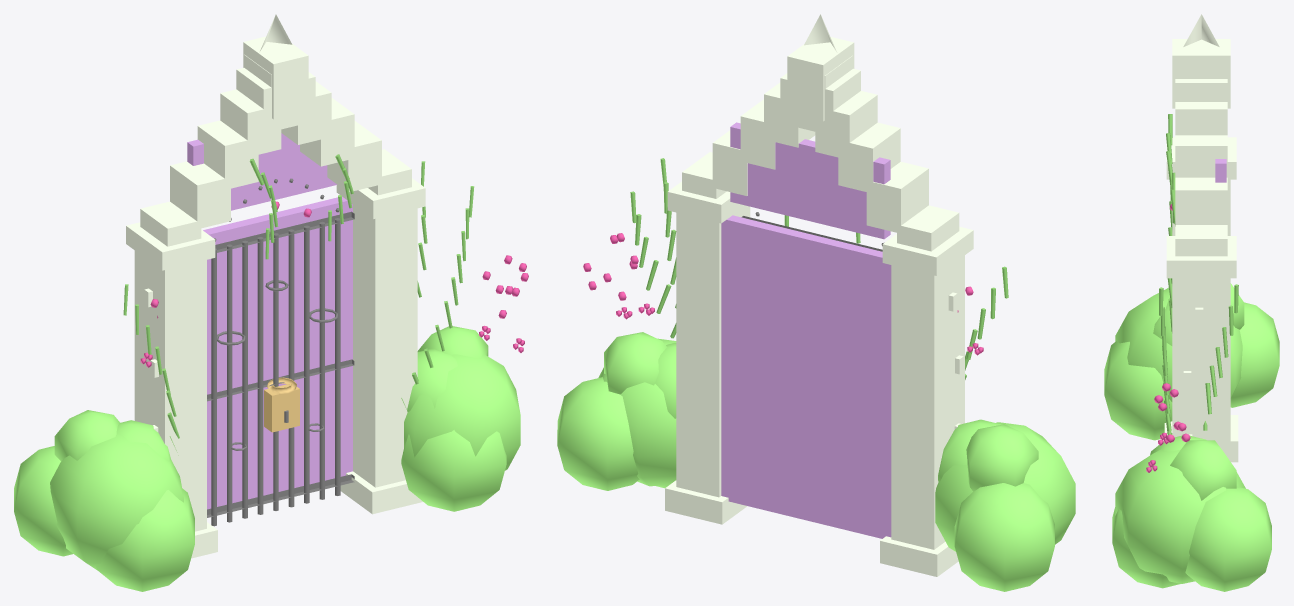
The model's file is 07_alice-maze.glb.
3 renders of one model, left to right at view 1: azimuth 30°, elevation 25°; view 2: azimuth 150°, elevation 25°; view 3: azimuth 270°, elevation 25°, orthographic. The views are drawn at different scales.
Visible parts, largest first — view 1: stone_arch, hedge_green, arch_inner, iron_gate, vine_branch, padlock, berry; view 2: stone_arch, arch_inner, hedge_green, vine_branch, berry; view 3: hedge_green, stone_arch, vine_branch, berry, arch_inner.
Boxes of the visible parts, x1,y1,x2,y2 form: stone_arch: (126,14,425,558); hedge_green: (14,326,520,591); arch_inner: (187,133,352,509); iron_gate: (207,178,354,526); vine_branch: (123,154,474,455); padlock: (264,377,299,432); berry: (140,201,528,367); stone_arch: (665,14,973,576); arch_inner: (721,122,891,538); hedge_green: (557,332,1075,591); vine_branch: (630,158,1008,379); berry: (583,233,983,355); hedge_green: (1104,283,1279,591); stone_arch: (1164,14,1238,462); vine_branch: (1159,114,1238,434); berry: (1146,204,1190,472); arch_inner: (1215,159,1226,182).
Bounding box in the file's own units: 14 × 14.05 × 4.51.
